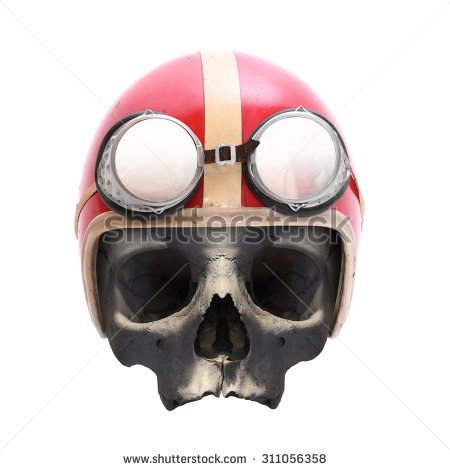with_helmet: (71, 47, 365, 346)
